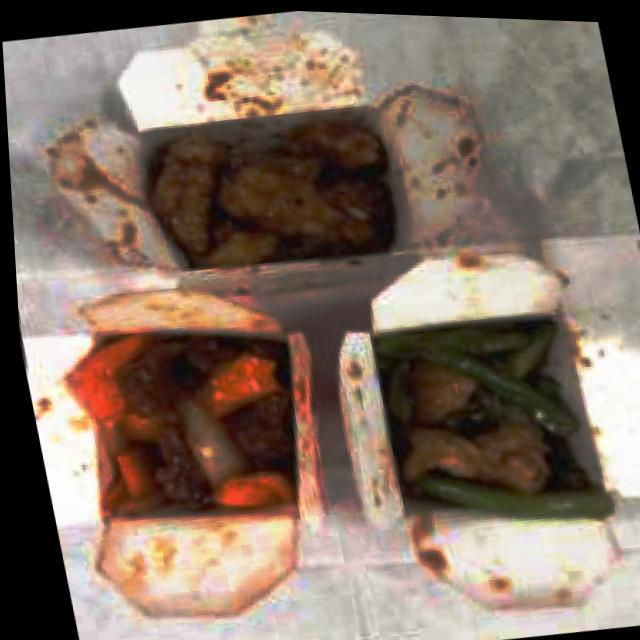Beijing Beef: (64, 305, 323, 533)
Kung Pao Chicken: (134, 92, 411, 287)
String Bean Chicken Breast: (368, 302, 614, 547)
